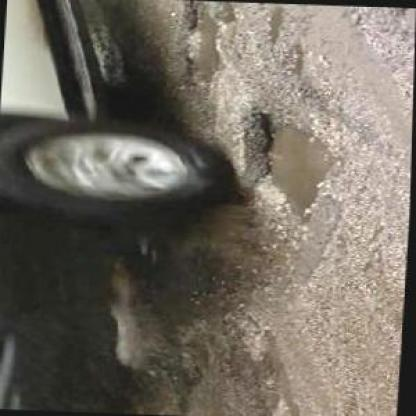pothole: (238, 112, 344, 230), (173, 0, 243, 89), (276, 44, 306, 78), (264, 4, 286, 47), (395, 6, 415, 42)
